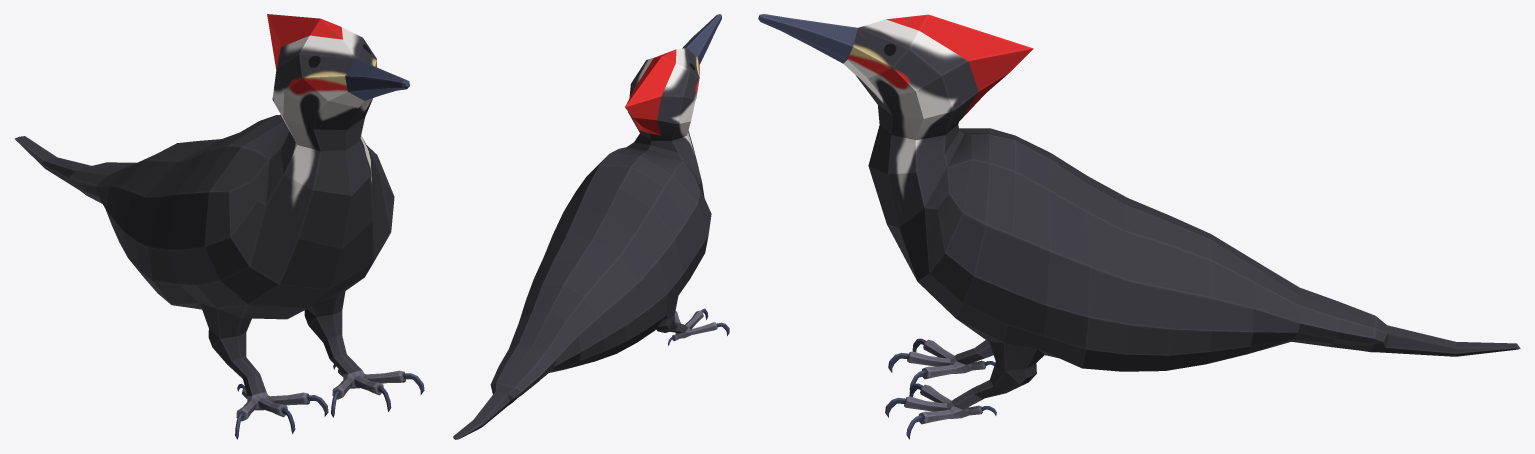
The model's file is Woodpecker.obj.
3 renders of one model, left to right at view 1: azimuth 30°, elevation 25°; view 2: azimuth 150°, elevation 25°; view 3: azimuth 270°, elevation 25°, orthographic. The views are drawn at different scales.
Parts seen in each view (by area): view 1: Woodpecker_mesh; view 2: Woodpecker_mesh; view 3: Woodpecker_mesh.
Part boxes in pixels (x1,y1,x2,y2): Woodpecker_mesh: (15,14,424,439); Woodpecker_mesh: (453,14,729,439); Woodpecker_mesh: (758,14,1520,439).
Bounding box in the file's own units: 3.9 × 7.92 × 14.19.
1 material, 1 textured.
